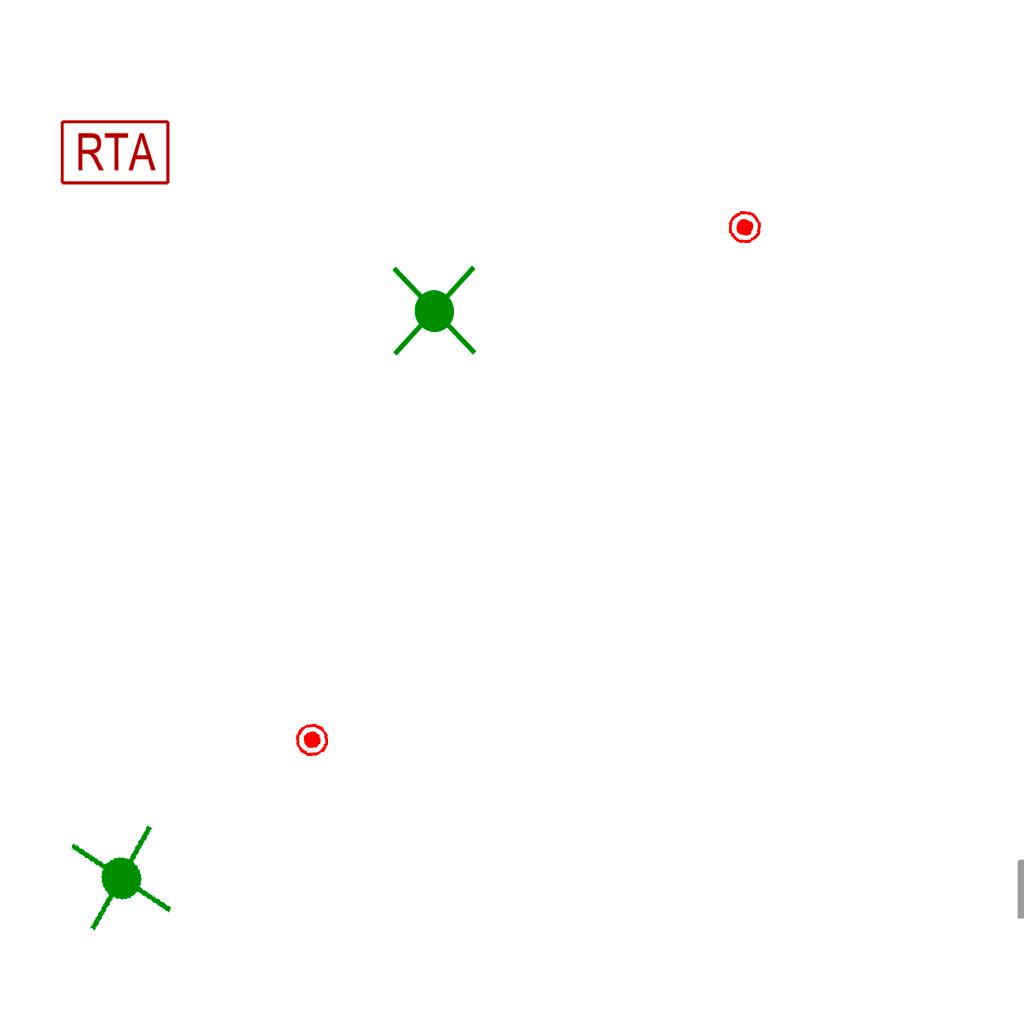Notlichtbaustein_in_Allgemeinbeleuchtug_engebaut_Einbau_(1UG_und_2UG_Aufbauvaria: (61, 817, 184, 939), (384, 261, 487, 361)
Ruf-und_Abstelltaster: (57, 118, 171, 187)
Taster: (293, 721, 330, 758), (727, 209, 764, 246)
